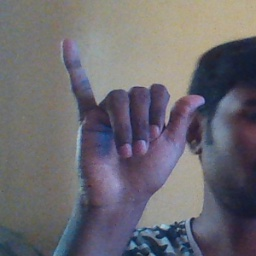J: (58, 39, 206, 192)
